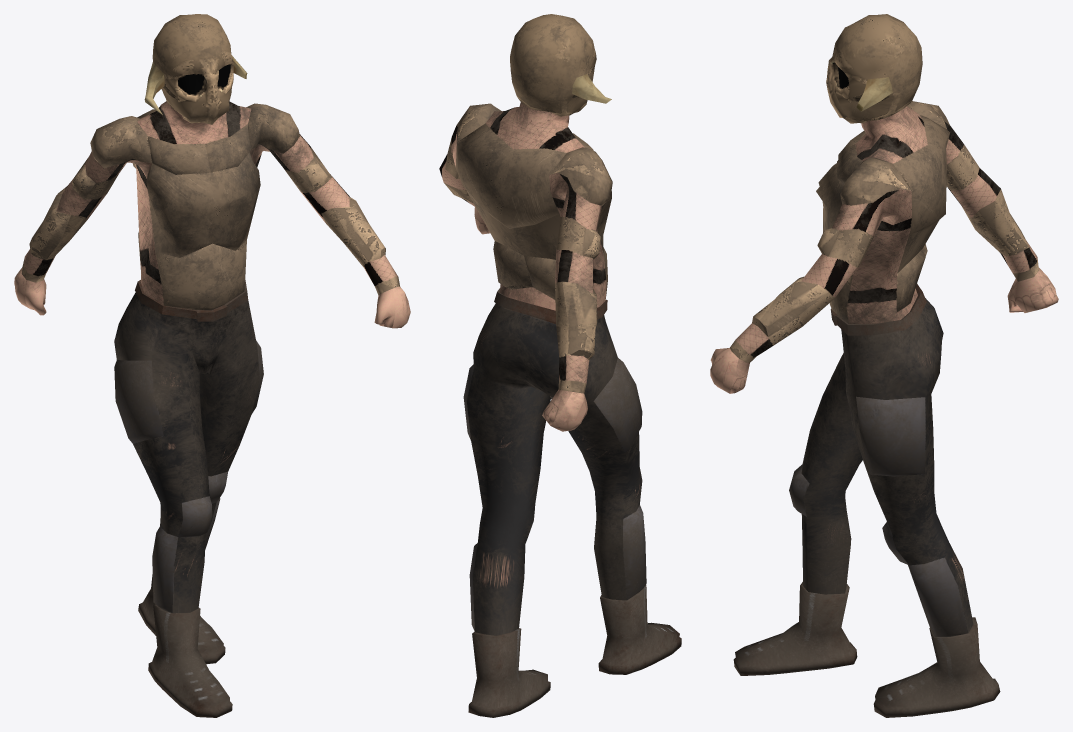
File: Anim_andar_npc1.0023.obj
The picture shows the model from 3 angles, left to right: view 1: azimuth 30°, elevation 25°; view 2: azimuth 150°, elevation 25°; view 3: azimuth 270°, elevation 25°; orthographic projection. The views are drawn at different scales.
Parts seen in each view (by area): view 1: Anim_andar_npc1; view 2: Anim_andar_npc1; view 3: Anim_andar_npc1.
Boxes of the visible parts, <box> form: Anim_andar_npc1: <box>14,14,410,717</box>; Anim_andar_npc1: <box>439,14,681,717</box>; Anim_andar_npc1: <box>710,14,1058,717</box>.
Size of the model in its own units: 3.85 by 9.64 by 4.46.
